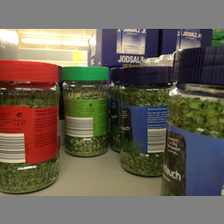spices: (152, 47, 222, 195), (1, 59, 62, 194), (118, 67, 172, 175), (61, 66, 110, 157)
